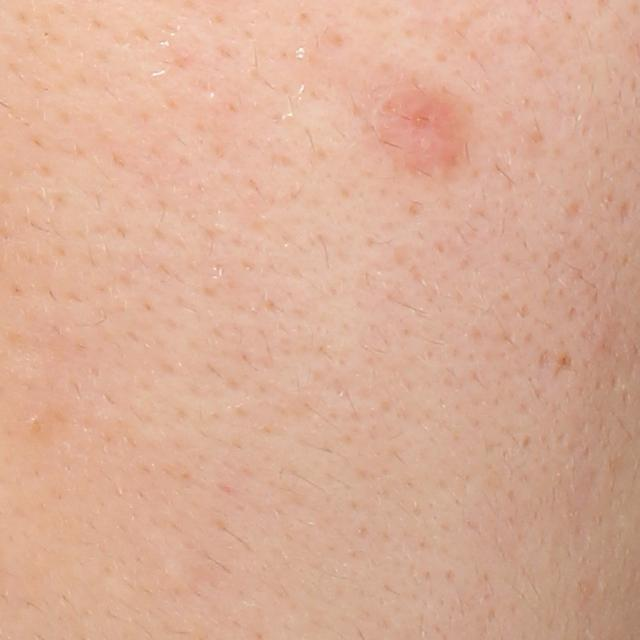papule: (374, 86, 482, 169)
